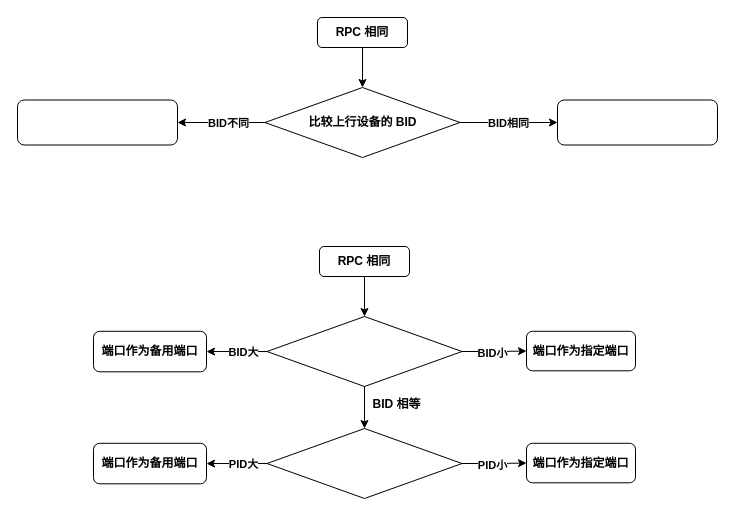
This 735x516 diagram has some shape labels left out. The shapes that lost their labels are listed below. From the top down, each one's box as (x1, y1, x2, y2) in pixels, then its label:
(16, 99, 178, 145): 所连上行设备的 BID 较小的作为根端口
(556, 99, 718, 145): 比较上行设备的 PID，较小的座位根端口
(266, 316, 462, 386): 比较交换机的 BID
(266, 428, 462, 498): 比较交换机的 PID
